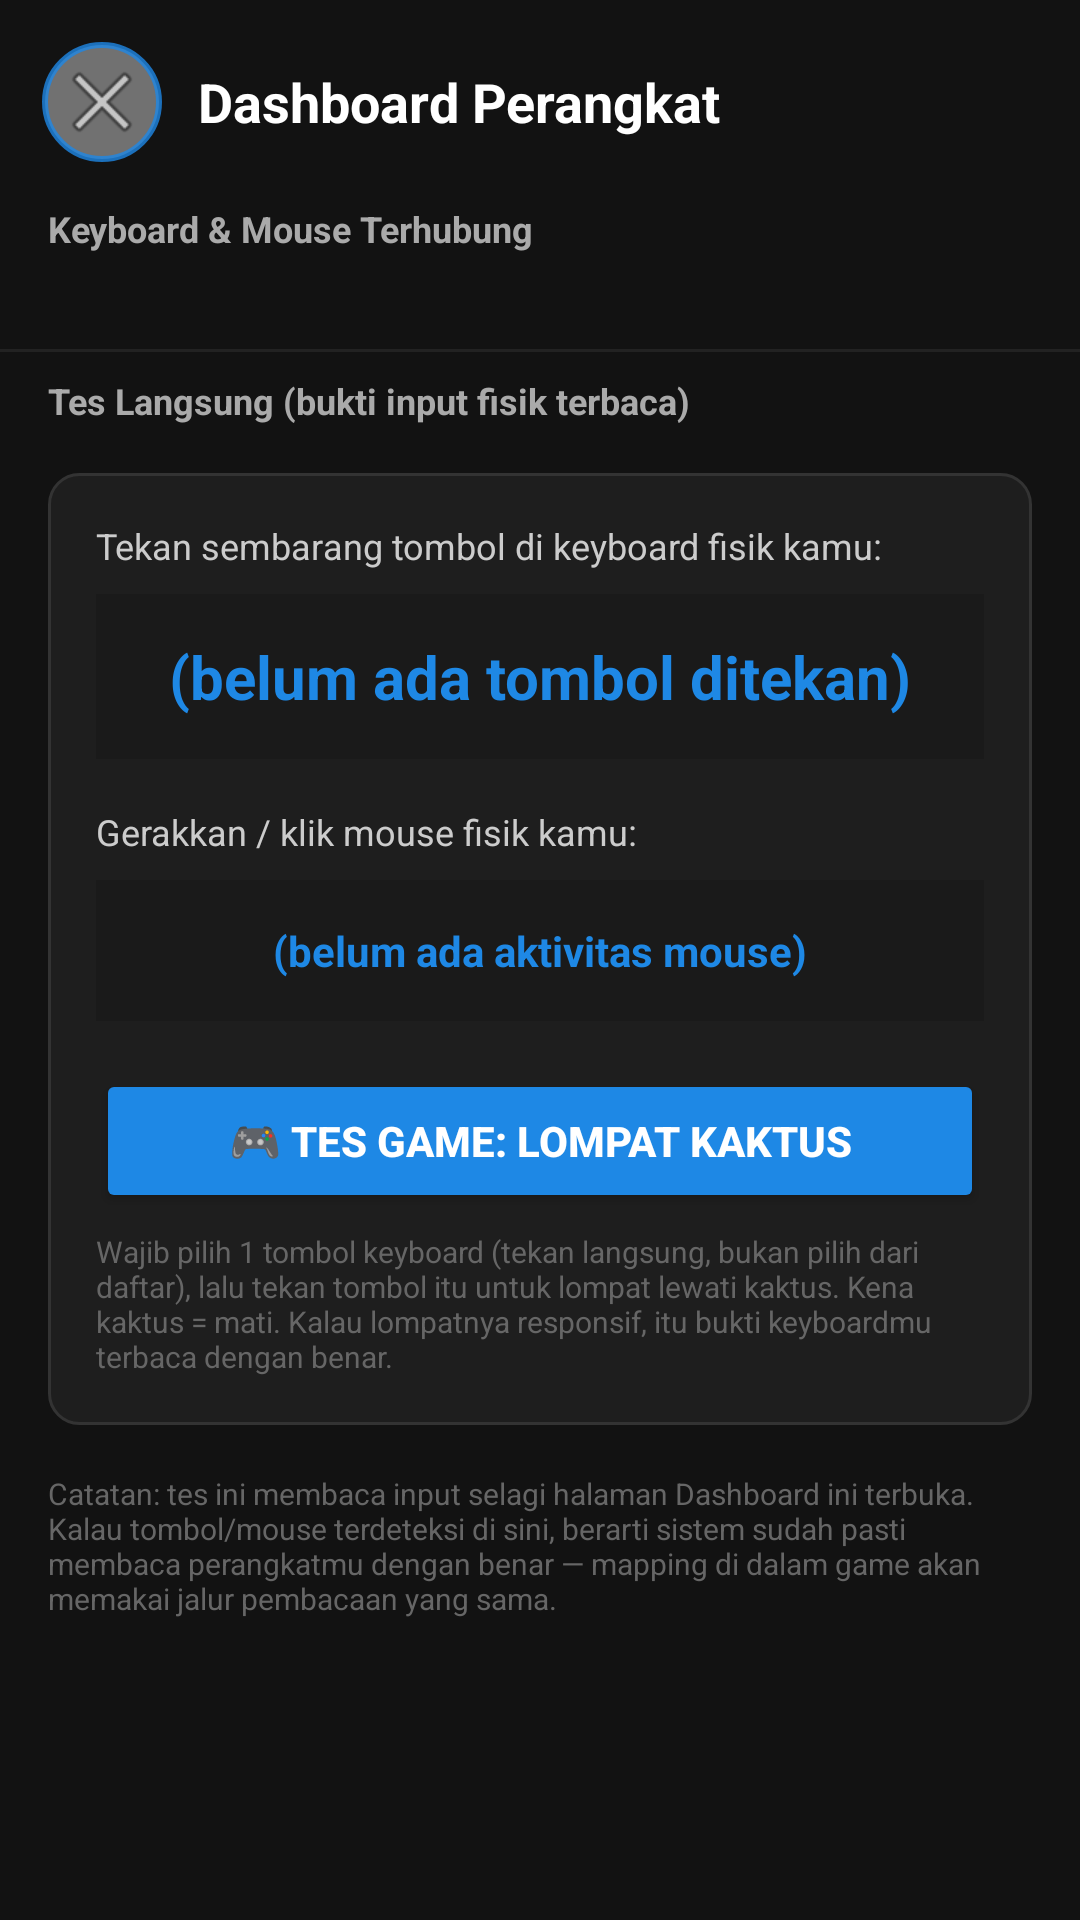

Icons on this 1080 x 1920 Android screen, each with its box as {"left": x1, "top": y1, "right": x2, "bottom": y2}:
Kembali: {"left": 42, "top": 42, "right": 162, "bottom": 162}
